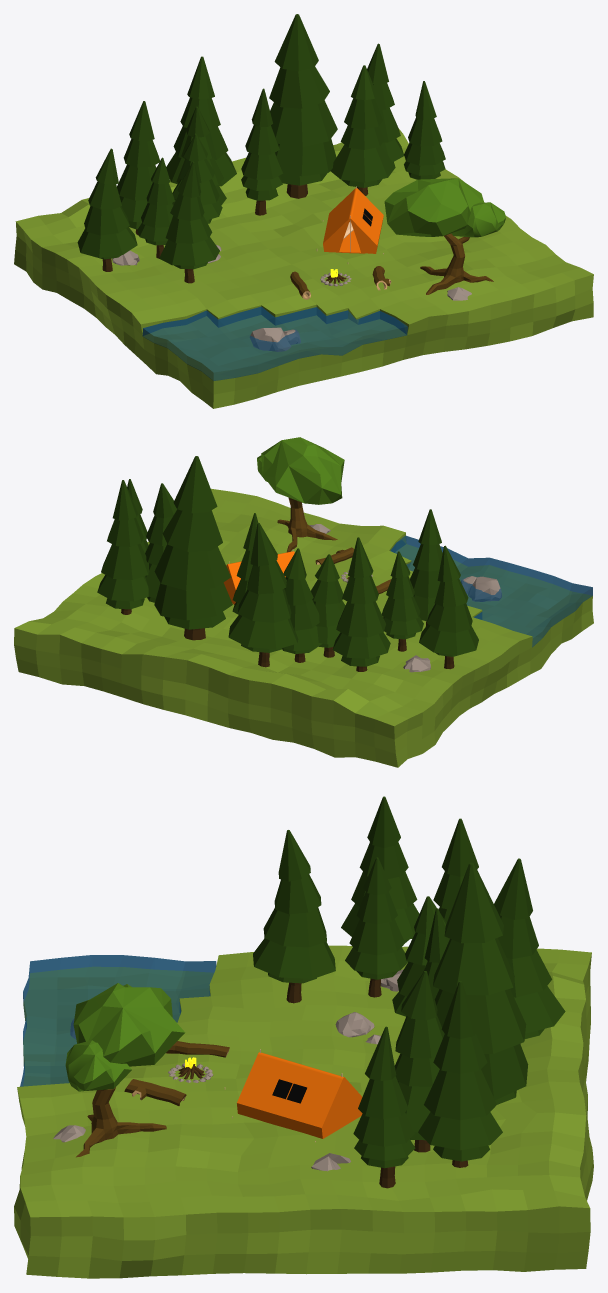
3 renders of one model, top to bottom at view 1: azimuth 30°, elevation 25°; view 2: azimuth 150°, elevation 25°; view 3: azimuth 270°, elevation 25°, orthographic. The views are drawn at different scales.
Visible parts, largest first — view 1: Box001, water, pine leaves004, Sphere001, pine leaves007, pine leaves008, pine leaves005, pine leaves, pine leaves003, pine leaves009, Box020, pine leaves010 (+7 smaller); view 2: Box001, pine leaves004, water, pine leaves009, Sphere001, pine leaves, pine leaves011, pine leaves008, pine leaves002, pine leaves006, pine leaves005, pine leaves001 (+6 smaller); view 3: Box001, pine leaves004, water, pine leaves011, pine leaves005, Box020, Sphere001, pine leaves009, pine leaves010, pine leaves007, pine leaves006, pine leaves008 (+8 smaller).
Part boxes in pixels (bbox=[...]): Box001: bbox=[14, 128, 593, 408]; water: bbox=[142, 306, 407, 380]; pine leaves004: bbox=[269, 14, 337, 185]; Sphere001: bbox=[384, 178, 484, 236]; pine leaves007: bbox=[330, 65, 395, 187]; pine leaves008: bbox=[77, 148, 137, 259]; pine leaves005: bbox=[159, 161, 219, 269]; pine leaves: bbox=[117, 101, 159, 229]; pine leaves003: bbox=[241, 88, 282, 200]; pine leaves009: bbox=[166, 56, 236, 186]; Box020: bbox=[323, 188, 383, 253]; pine leaves010: bbox=[404, 81, 445, 179]; Box001: bbox=[14, 488, 593, 767]; pine leaves004: bbox=[154, 456, 232, 629]; water: bbox=[390, 535, 592, 647]; pine leaves009: bbox=[228, 523, 298, 652]; Sphere001: bbox=[261, 437, 344, 504]; pine leaves: bbox=[332, 537, 390, 666]; pine leaves011: bbox=[97, 480, 149, 609]; pine leaves008: bbox=[419, 545, 478, 656]; pine leaves002: bbox=[282, 548, 322, 653]; pine leaves006: bbox=[382, 551, 423, 639]; pine leaves005: bbox=[410, 509, 442, 621]; pine leaves001: bbox=[311, 554, 345, 647]; Box001: bbox=[14, 945, 593, 1278]; pine leaves004: bbox=[433, 862, 528, 1104]; water: bbox=[20, 955, 216, 1086]; pine leaves011: bbox=[418, 981, 502, 1161]; pine leaves005: bbox=[253, 830, 335, 983]; Box020: bbox=[237, 1052, 362, 1138]; Sphere001: bbox=[73, 983, 185, 1066]; pine leaves009: bbox=[494, 858, 565, 1038]; pine leaves010: bbox=[353, 1026, 415, 1168]; pine leaves007: bbox=[394, 971, 444, 1140]; pine leaves006: bbox=[345, 857, 407, 979]; pine leaves008: bbox=[341, 796, 419, 942].
Size of the model in its own units: 15.08 by 8.35 by 13.66.
